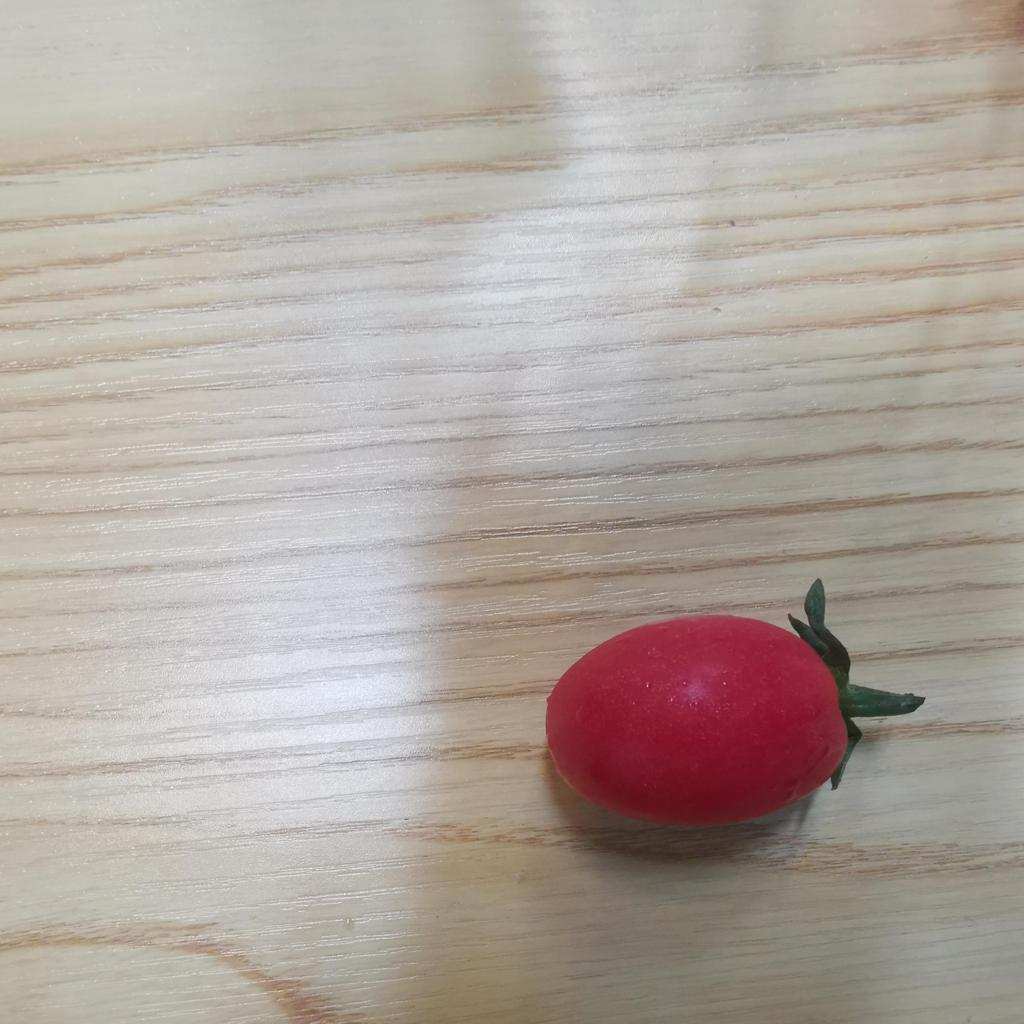tomato: (549, 609, 872, 855)
